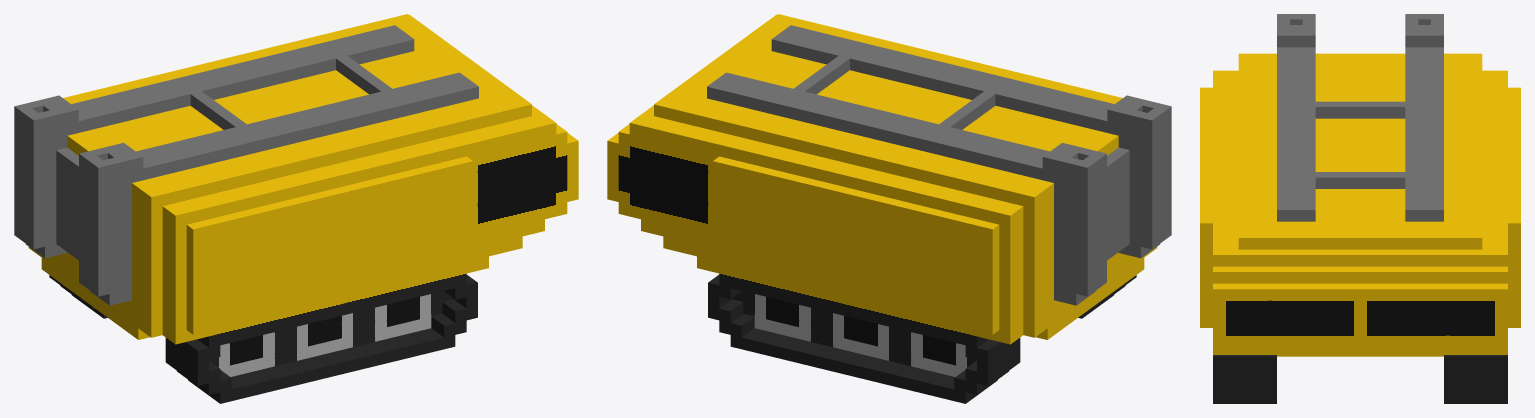
Rendered from MiningVehicle.dae.
3 renders of one model, left to right at view 1: azimuth 30°, elevation 25°; view 2: azimuth 150°, elevation 25°; view 3: azimuth 270°, elevation 25°, orthographic.
Parts seen in each view (by area): view 1: miningvehicle.merged; view 2: miningvehicle.merged; view 3: miningvehicle.merged.
Boxes of the visible parts, box(x1,y1,x2,y2) form: miningvehicle.merged: box(14, 14, 578, 403); miningvehicle.merged: box(607, 14, 1171, 403); miningvehicle.merged: box(1200, 14, 1520, 403).
Size of the model in its own units: 4 by 2 by 2.5.
Materials: 1 (1 with a texture image).
